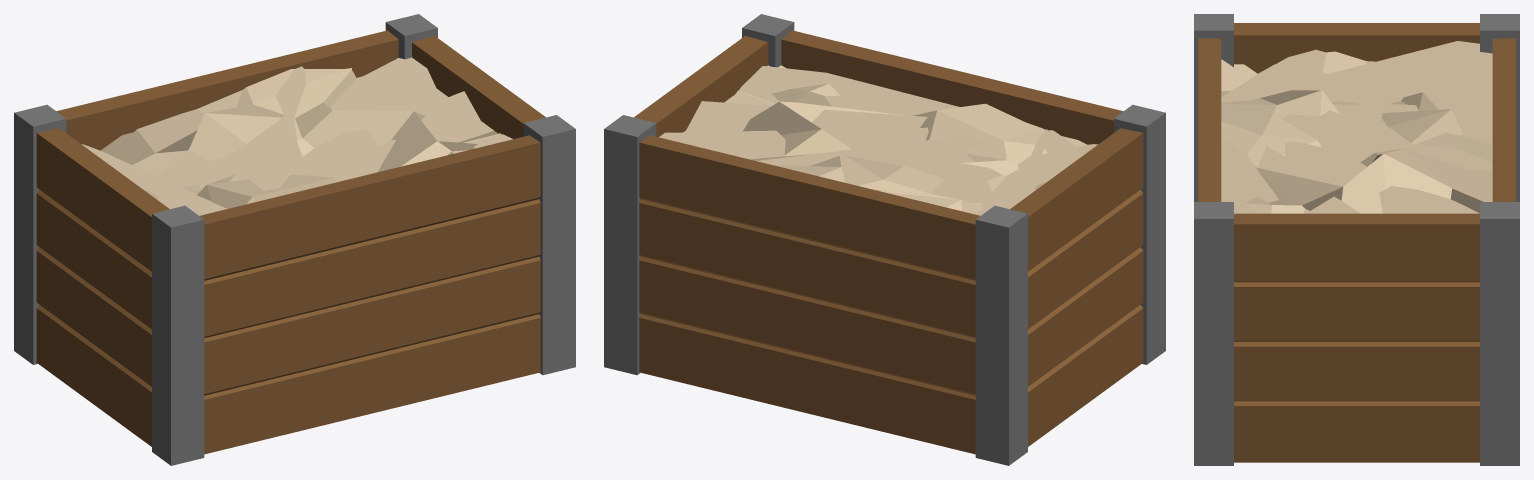
The model's file is Crate.fbx.
3 views of the same model, side by side, from view 1: azimuth 30°, elevation 25°; view 2: azimuth 150°, elevation 25°; view 3: azimuth 270°, elevation 25° (orthographic). The views are drawn at different scales.
Parts seen in each view (by area): view 1: Crate; view 2: Crate; view 3: Crate.
Part boxes in pixels (left/top/right/bottom): Crate: left=14, top=14, right=575, bottom=465; Crate: left=604, top=14, right=1165, bottom=465; Crate: left=1194, top=14, right=1519, bottom=465.
Size of the model in its own units: 45.75 by 25.74 by 30.75.
